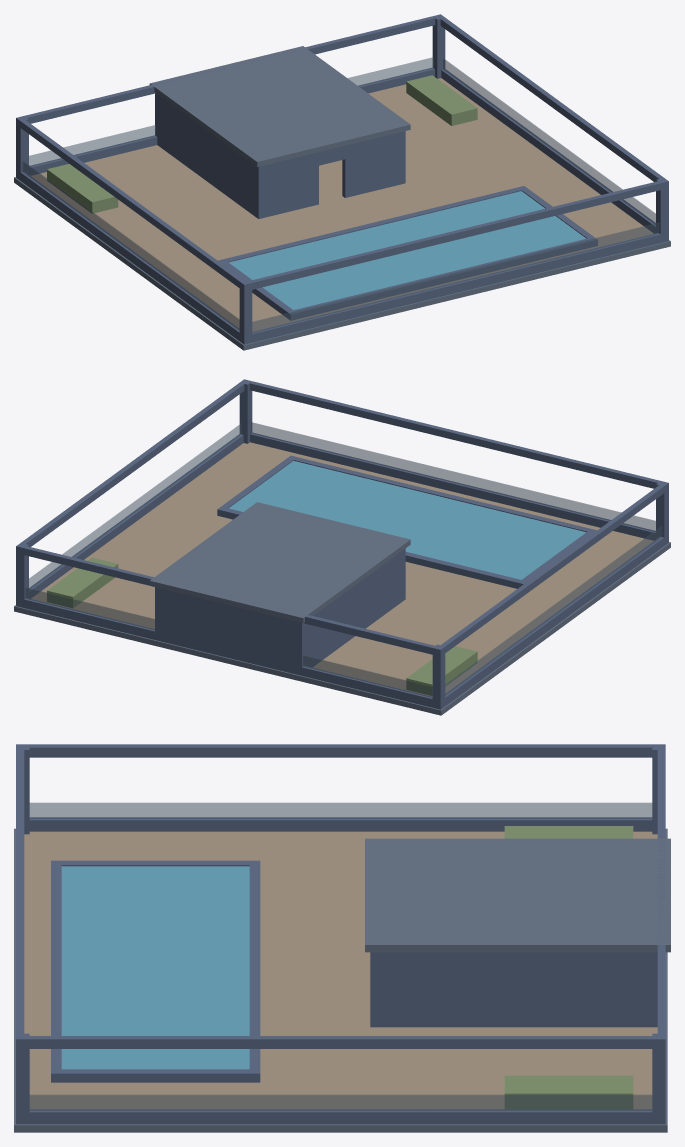
File: office-roof-b.skyline-v4.lod1.glb
3 renders of one model, top to bottom at view 1: azimuth 30°, elevation 25°; view 2: azimuth 150°, elevation 25°; view 3: azimuth 270°, elevation 25°, orthographic. The views are drawn at different scales.
Parts seen in each view (by area): view 1: office-roof-b; view 2: office-roof-b; view 3: office-roof-b.
Boxes of the visible parts, bbox=[...] form: office-roof-b: bbox=[14, 14, 670, 350]; office-roof-b: bbox=[14, 379, 670, 715]; office-roof-b: bbox=[14, 744, 670, 1132].
Bounding box in the file's own units: 26.16 × 3.8 × 24.48.
